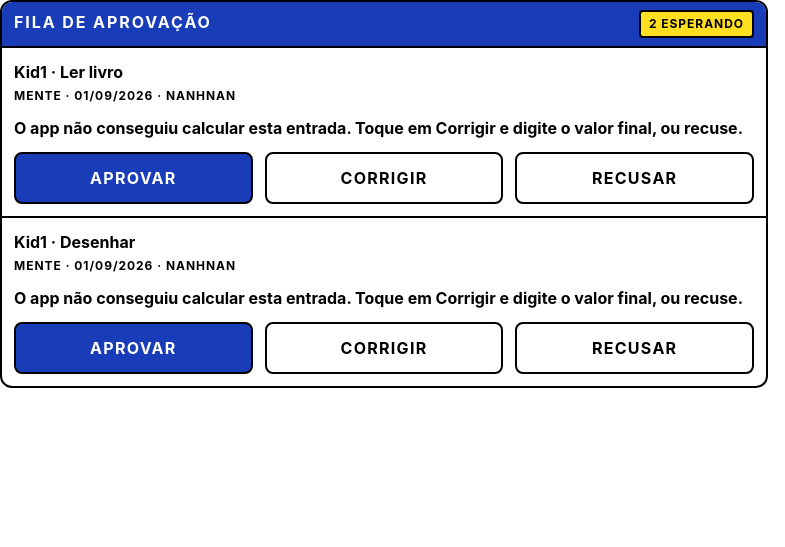
the queue after a failed request (#29) › says the request may have been saved when the re-read fails too
The width and height of the screenshot is (785, 547).
Click the button "Aprovar" below "Ler livro".
click(133, 178)  # box 14,152 -> 253,204
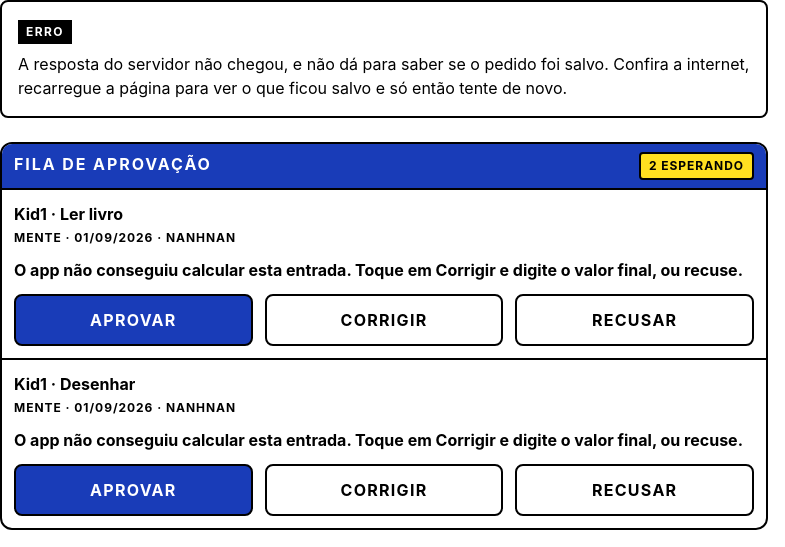
Check: the text "Ler livro" is shown, box 60,204 -> 123,224
Check: the text "A resposta do servidor não chegou, e não dá para saber se o pedido foi salvo. Confira a internet, recarregue a página para ver o que ficou salvo e só então tent" is shown, box 18,54 -> 749,98
